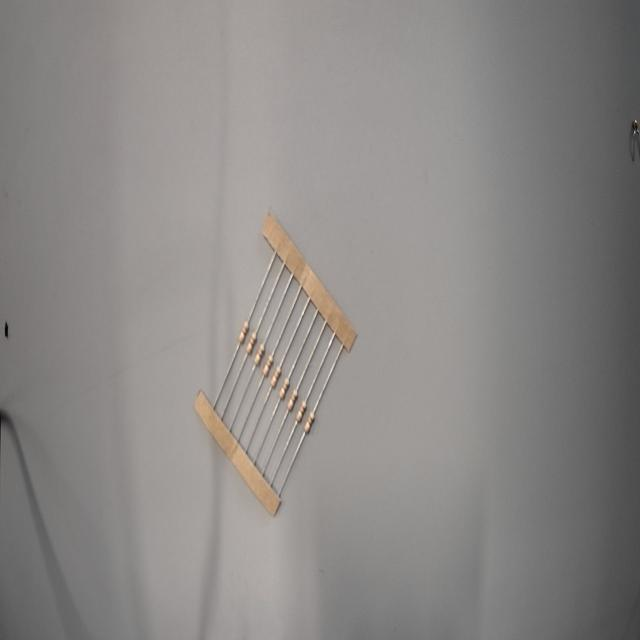resistor: (298, 406, 321, 437), (289, 394, 310, 426), (258, 346, 278, 378), (282, 382, 302, 414), (272, 373, 294, 401), (249, 338, 268, 368), (234, 315, 251, 348), (243, 326, 263, 354), (266, 361, 286, 388)
